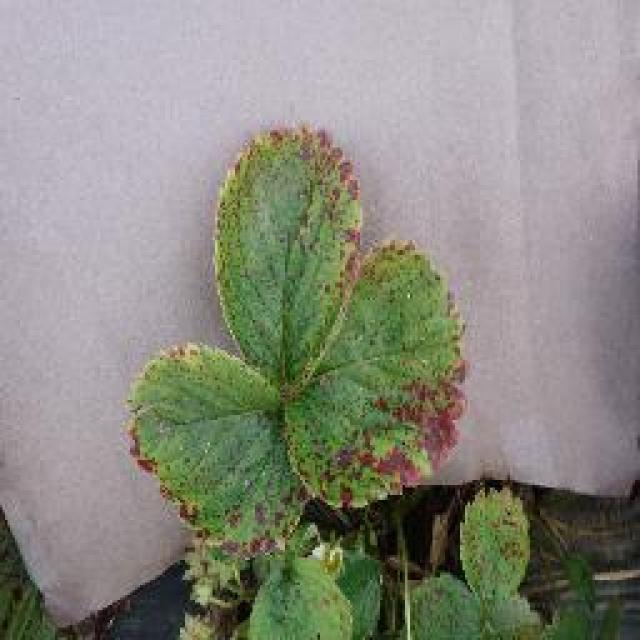Strawberry leaf scorch: (240, 262, 443, 482)
